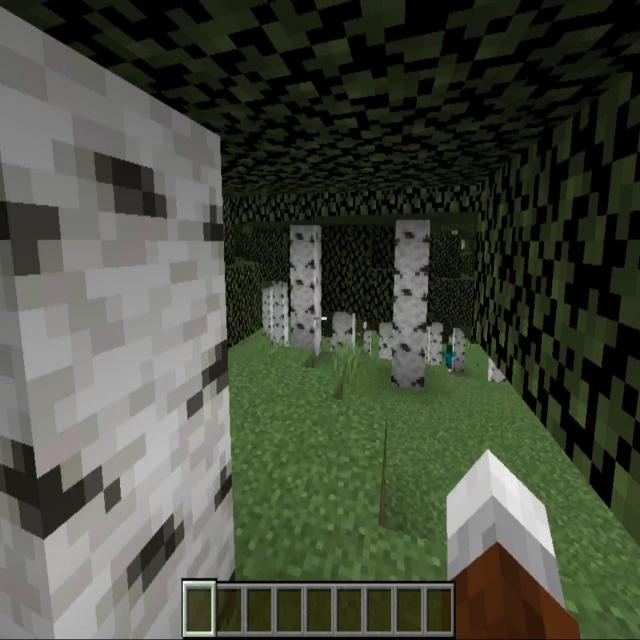Zombie: (444, 341, 456, 371)
